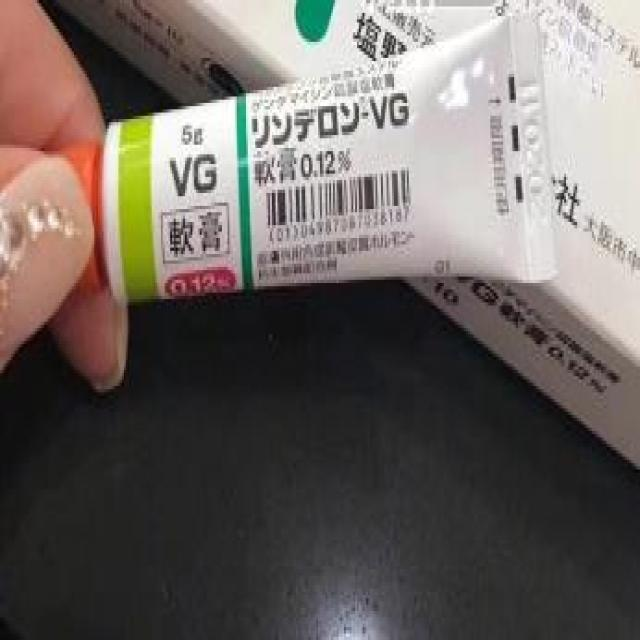-Hazardous waste - medicine inner packaging-: (46, 8, 556, 294)
